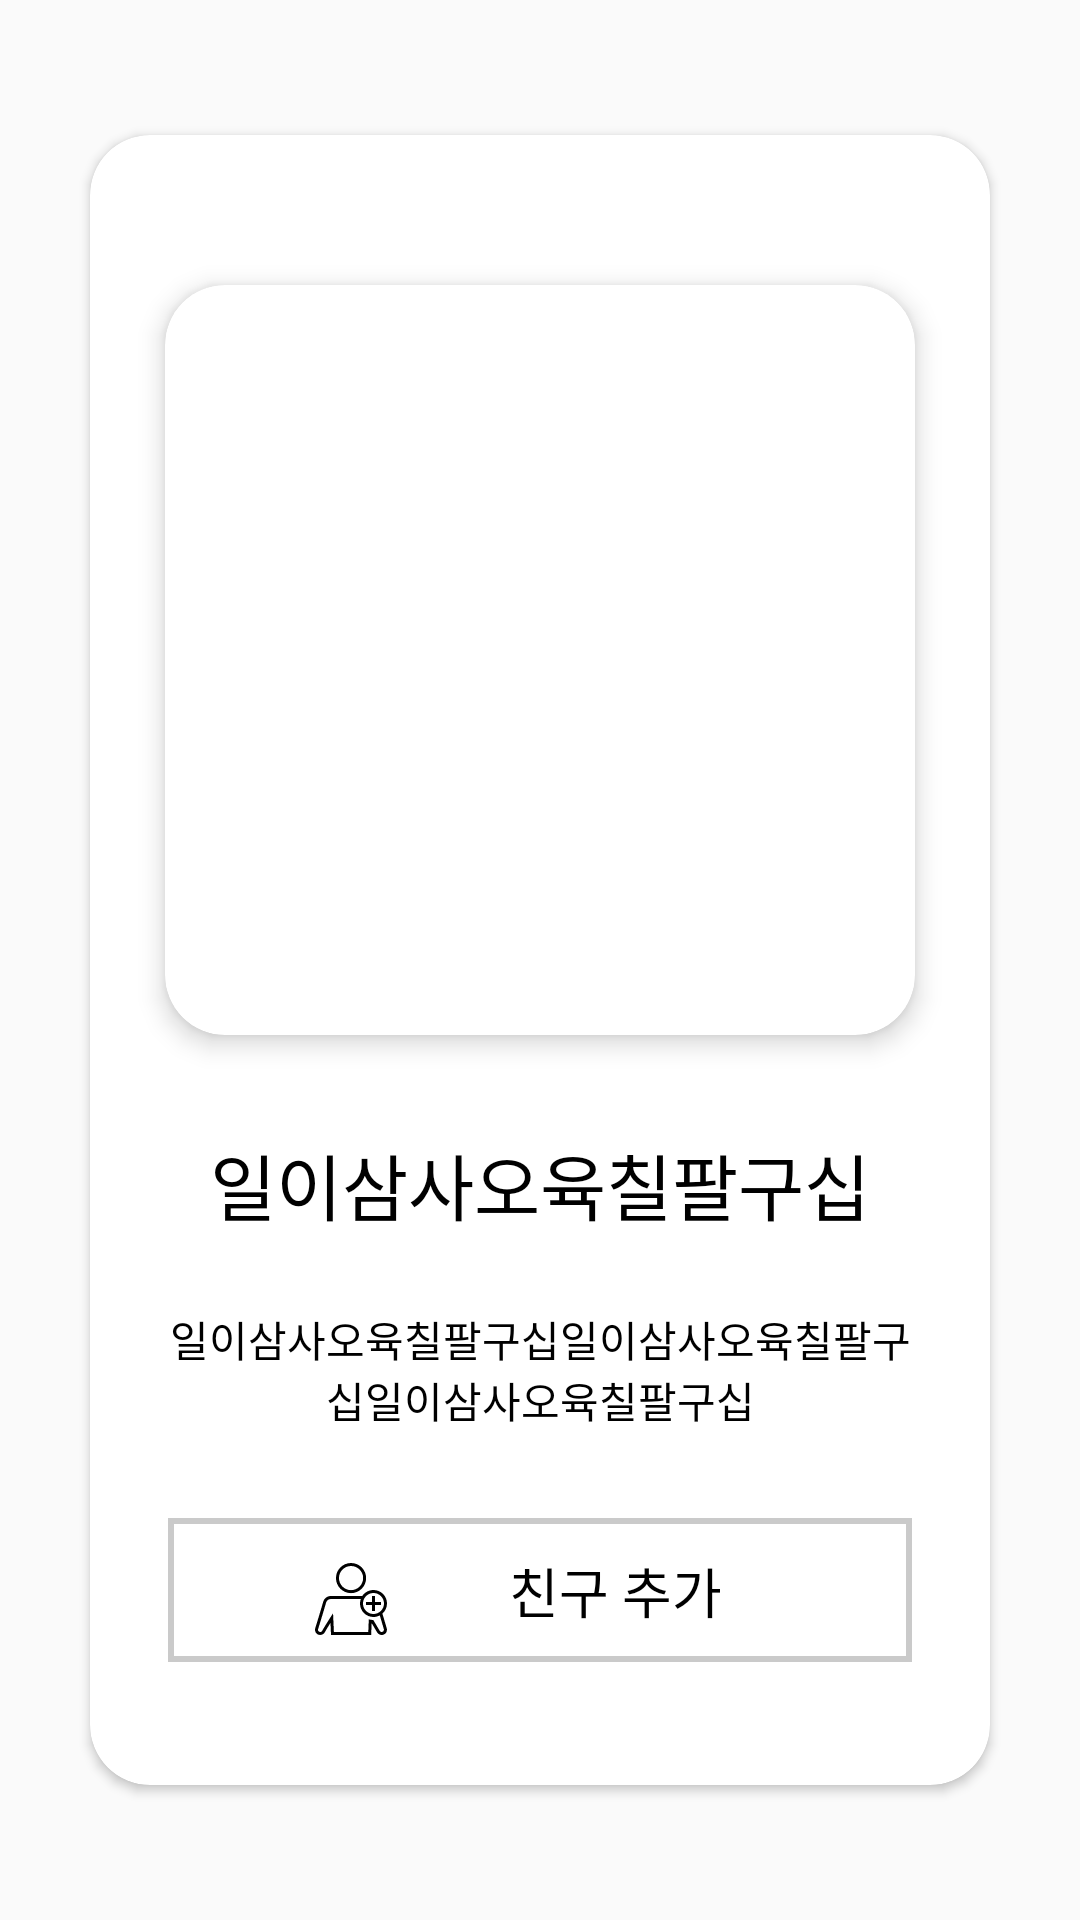

Icon bounding boxes for this 1080px x 1920px phone screenshot, format (x1,y1,x2,y2):
addfriend blank: (315,1563,387,1635)
